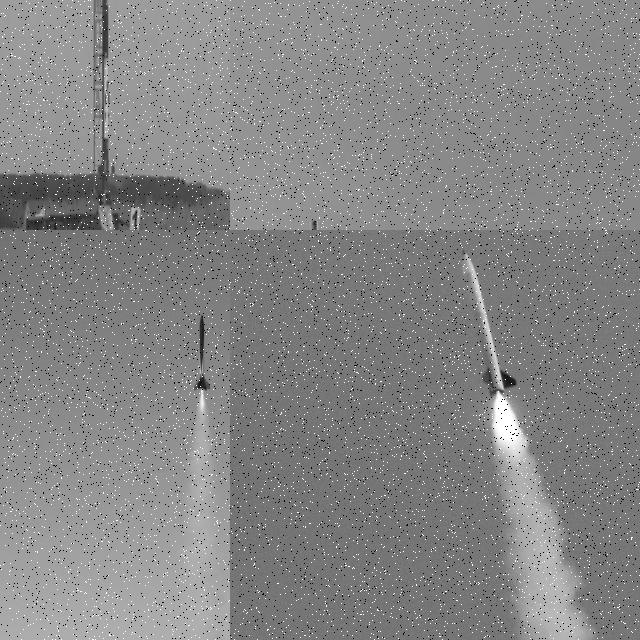Rocket: (461, 249, 518, 399), (97, 0, 115, 178), (192, 314, 212, 392), (308, 218, 324, 230)
